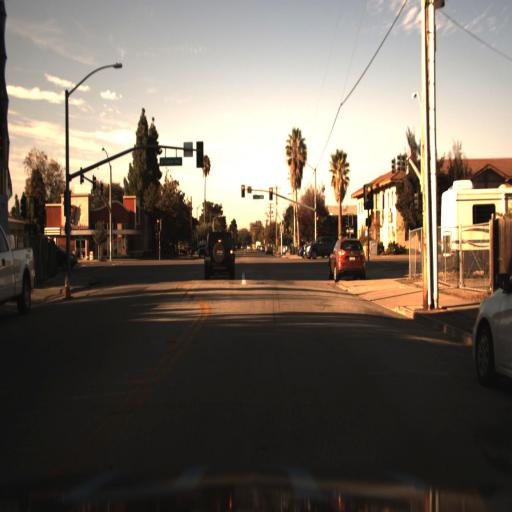car: (471, 264, 512, 391), (0, 220, 37, 324), (198, 221, 239, 291), (328, 232, 369, 291), (200, 226, 239, 286), (325, 235, 366, 278), (302, 237, 339, 260)
trafficLight-Red: (361, 181, 375, 216), (361, 180, 373, 213), (150, 213, 164, 234), (237, 179, 248, 199), (264, 184, 276, 200), (314, 210, 323, 228)
